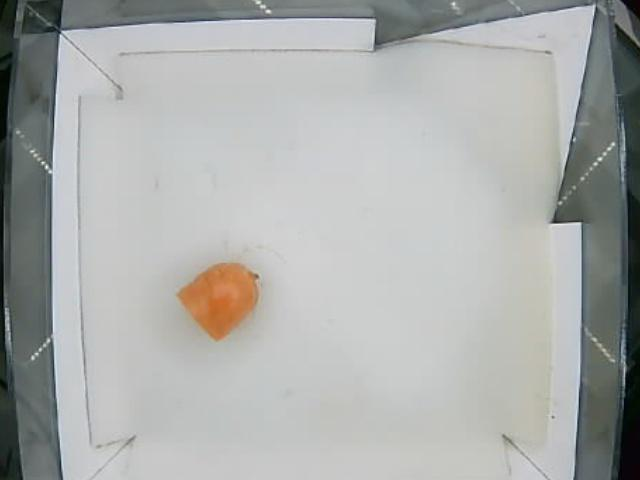Carrot: (176, 263, 258, 338)
